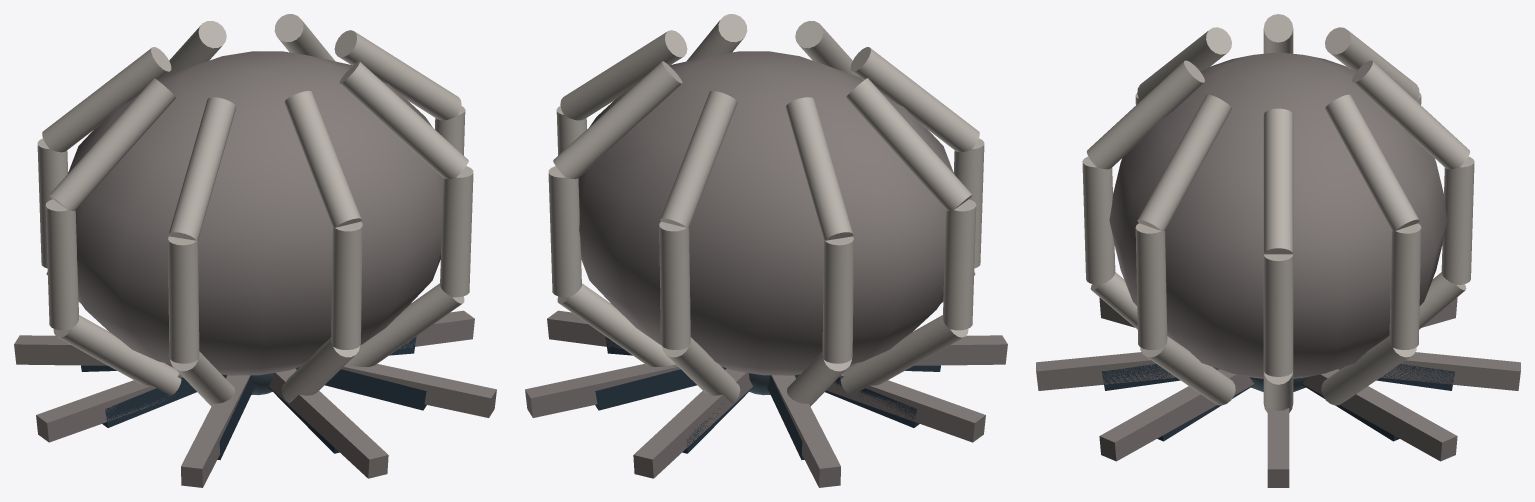
File: CMU3DHiveCMU14PathogenBlightCoreConstructionNode.glb
3 renders of one model, left to right at view 1: azimuth 30°, elevation 25°; view 2: azimuth 150°, elevation 25°; view 3: azimuth 270°, elevation 25°, orthographic.
Parts seen in each view (by area): view 1: complete organ body, raised curved organ rib (×18), anchoring root (×9); view 2: complete organ body, raised curved organ rib (×18), anchoring root (×9); view 3: complete organ body, raised curved organ rib (×18), anchoring root (×7).
Boxes of the visible parts, <box> form: complete organ body: <box>68,51,443,375</box>; raised curved organ rib (×18): <box>37,14,473,406</box>; anchoring root (×9): <box>14,310,496,487</box>; complete organ body: <box>578,51,953,375</box>; raised curved organ rib (×18): <box>548,14,984,406</box>; anchoring root (×9): <box>525,310,1007,487</box>; complete organ body: <box>1109,52,1447,378</box>; raised curved organ rib (×18): <box>1082,14,1474,412</box>; anchoring root (×7): <box>1036,352,1520,487</box>.
Size of the model in its own units: 1.25 by 0.9296 by 1.25.
